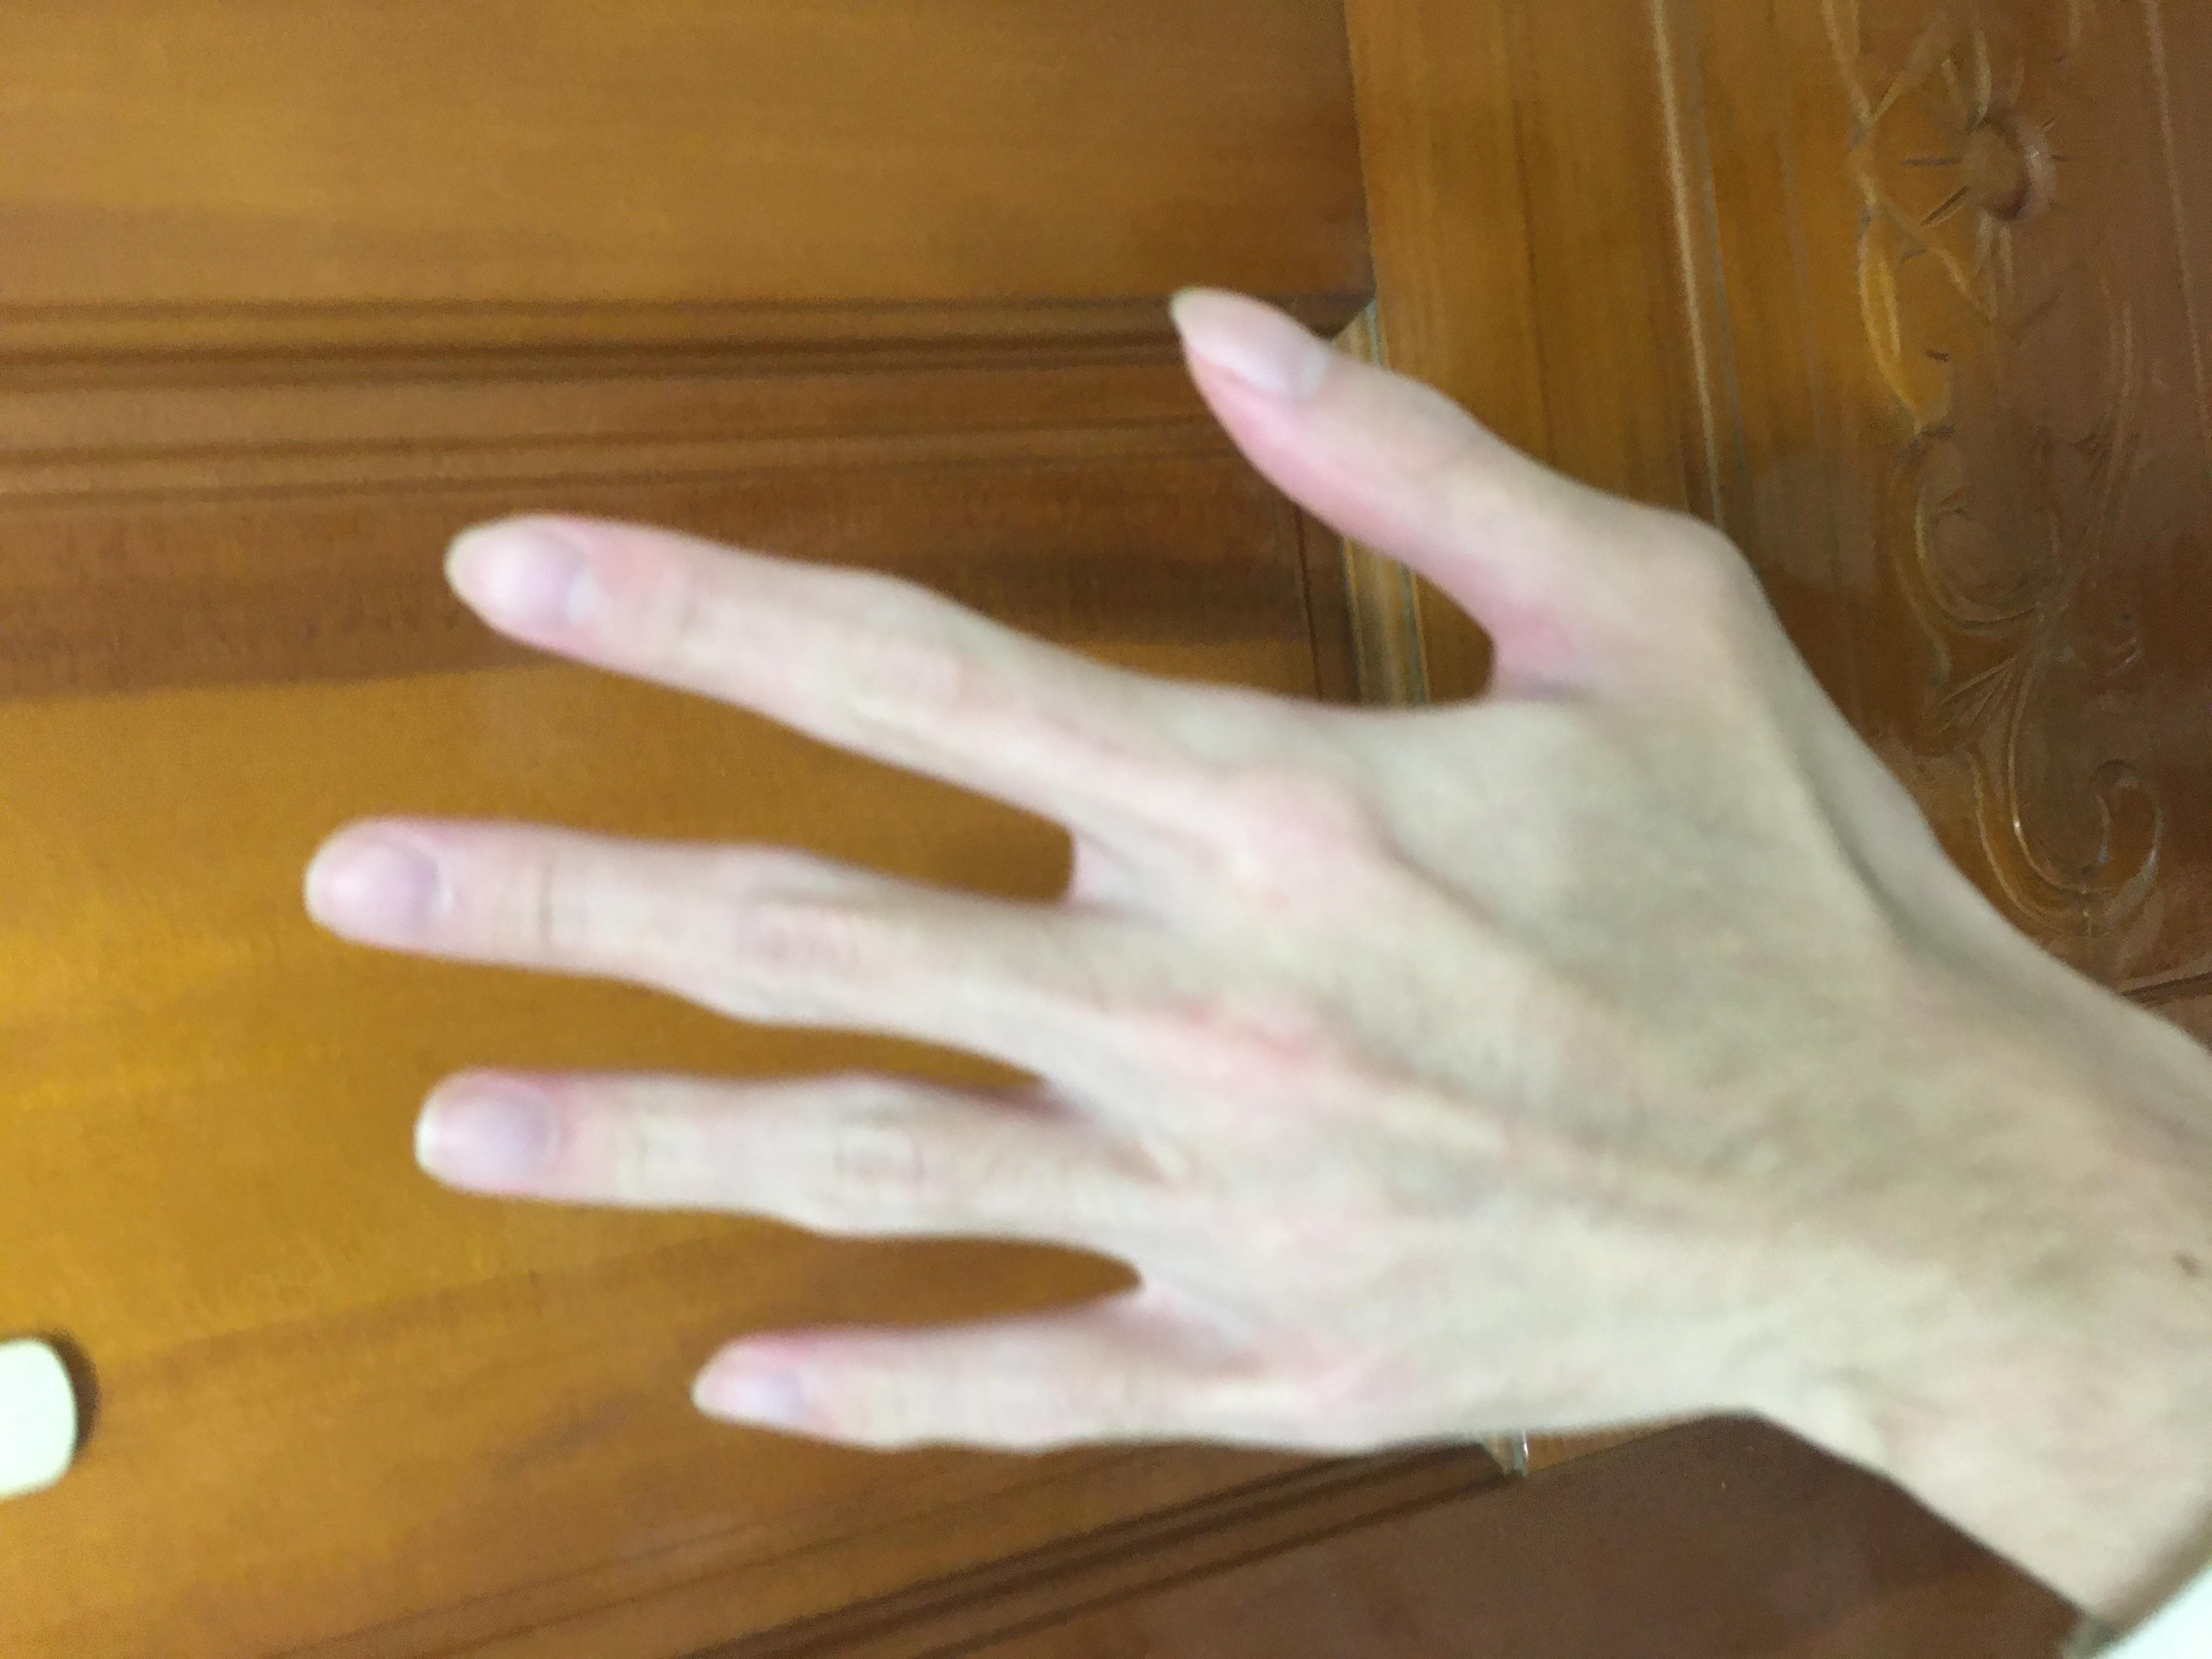hand: (252, 223, 1841, 1372)
